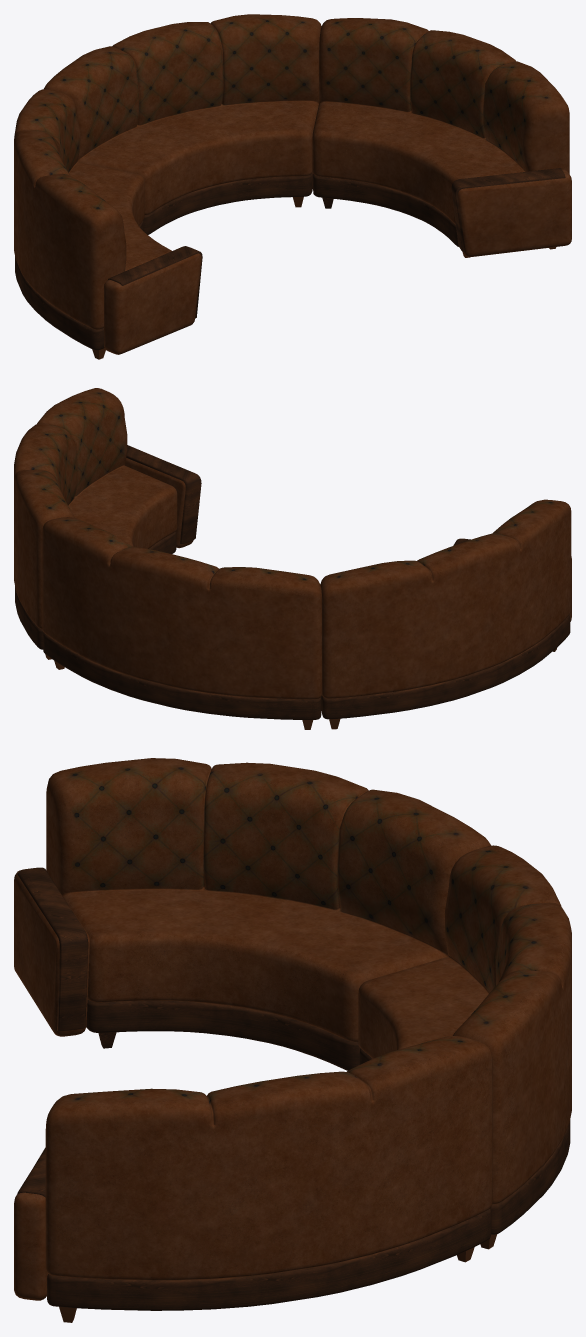
The model's file is SofaRetro03.FBX.
3 renders of one model, top to bottom at view 1: azimuth 30°, elevation 25°; view 2: azimuth 150°, elevation 25°; view 3: azimuth 270°, elevation 25°, orthographic. The views are drawn at different scales.
Visible parts, largest first — view 1: SofaRetro03; view 2: SofaRetro03; view 3: SofaRetro03.
Boxes of the visible parts, x1,y1,x2,y2 form: SofaRetro03: [14, 14, 571, 359]; SofaRetro03: [14, 388, 571, 729]; SofaRetro03: [14, 758, 571, 1322].
Bounding box in the file's own units: 4059 × 1220 × 2706.
